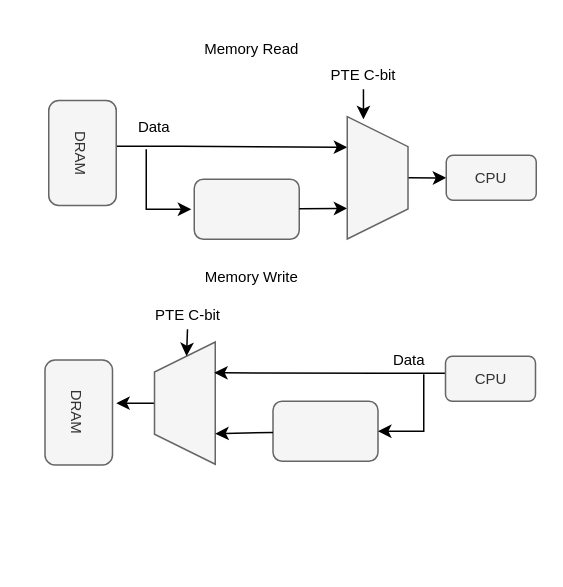
The diagram is 563 pixels wide and 587 high, and some of its shapes have lost their labels. Each missing label, with the centre of its shape:
"AES Decrypt" belongs at (x=246, y=208).
"AES Encrypt" belongs at (x=325, y=430).
